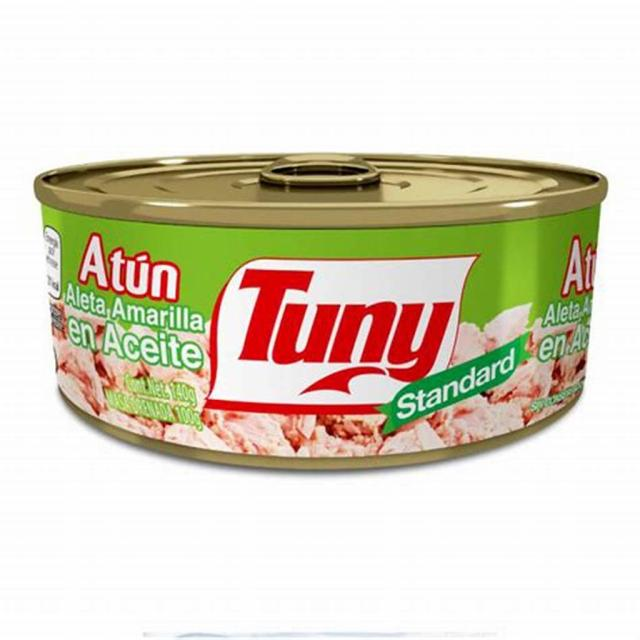Lata: (26, 148, 601, 478)
